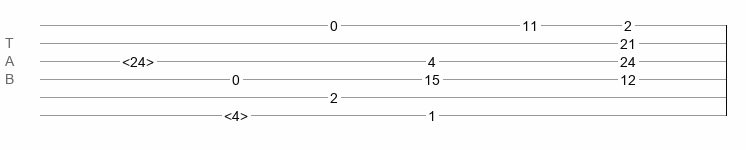0: (232, 72, 240, 82), (330, 18, 338, 28)
1: (428, 108, 436, 118)
11: (522, 18, 538, 28)
12: (620, 72, 636, 82)
15: (424, 72, 440, 82)
2: (330, 90, 338, 100), (624, 18, 632, 28)
21: (620, 36, 636, 46)
24: (620, 54, 636, 64)
4: (428, 54, 436, 64)
harmonic: (122, 54, 154, 64), (224, 108, 248, 118)
